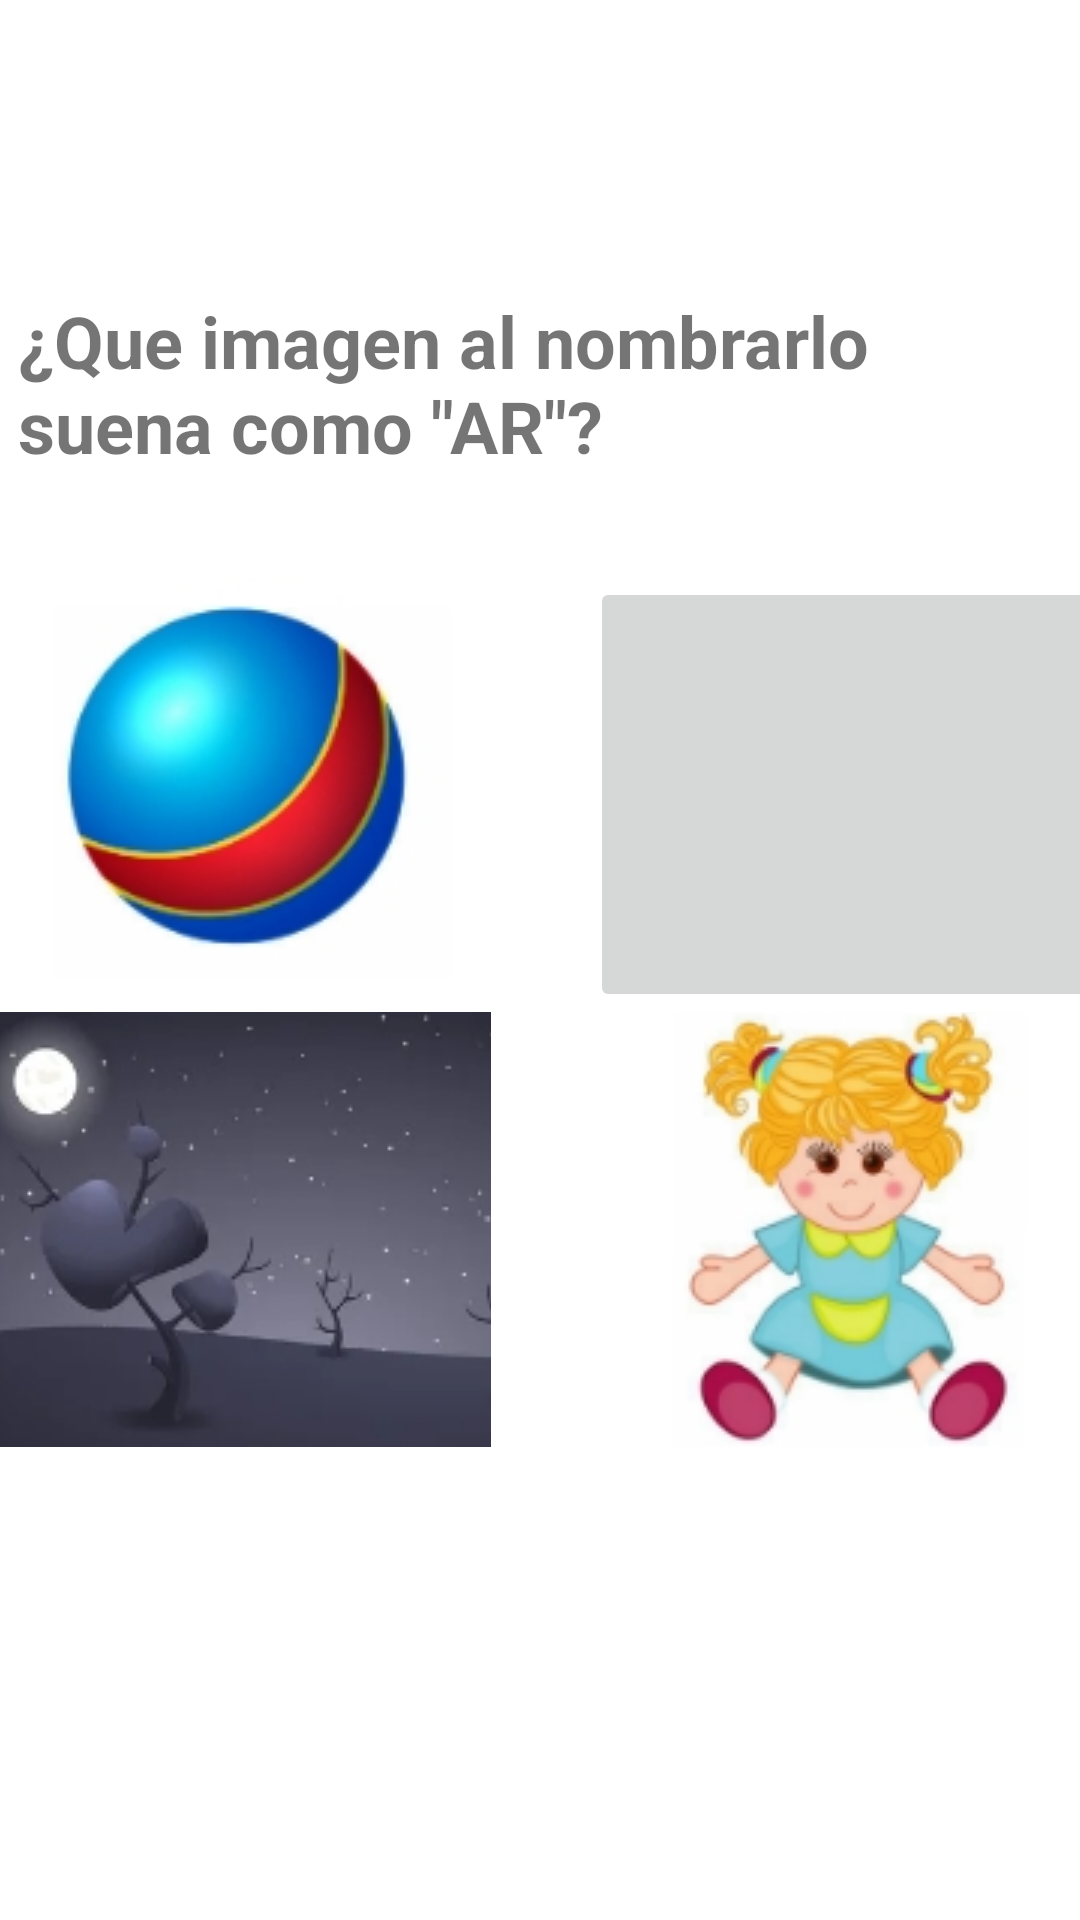

Where to tap for icons on this 1080 × 1920 app screen, as point (x, y):
ball im: point (236, 776)
